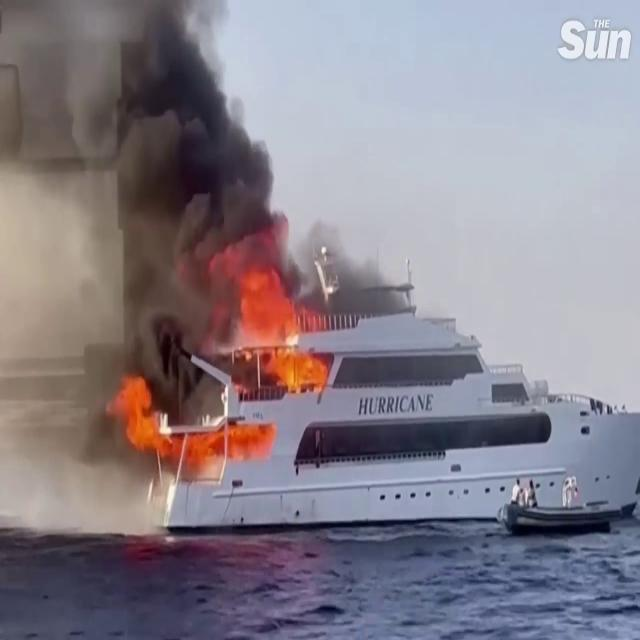Fire: (222, 264, 332, 396), (108, 364, 172, 456)
Smoke: (1, 1, 295, 322)
